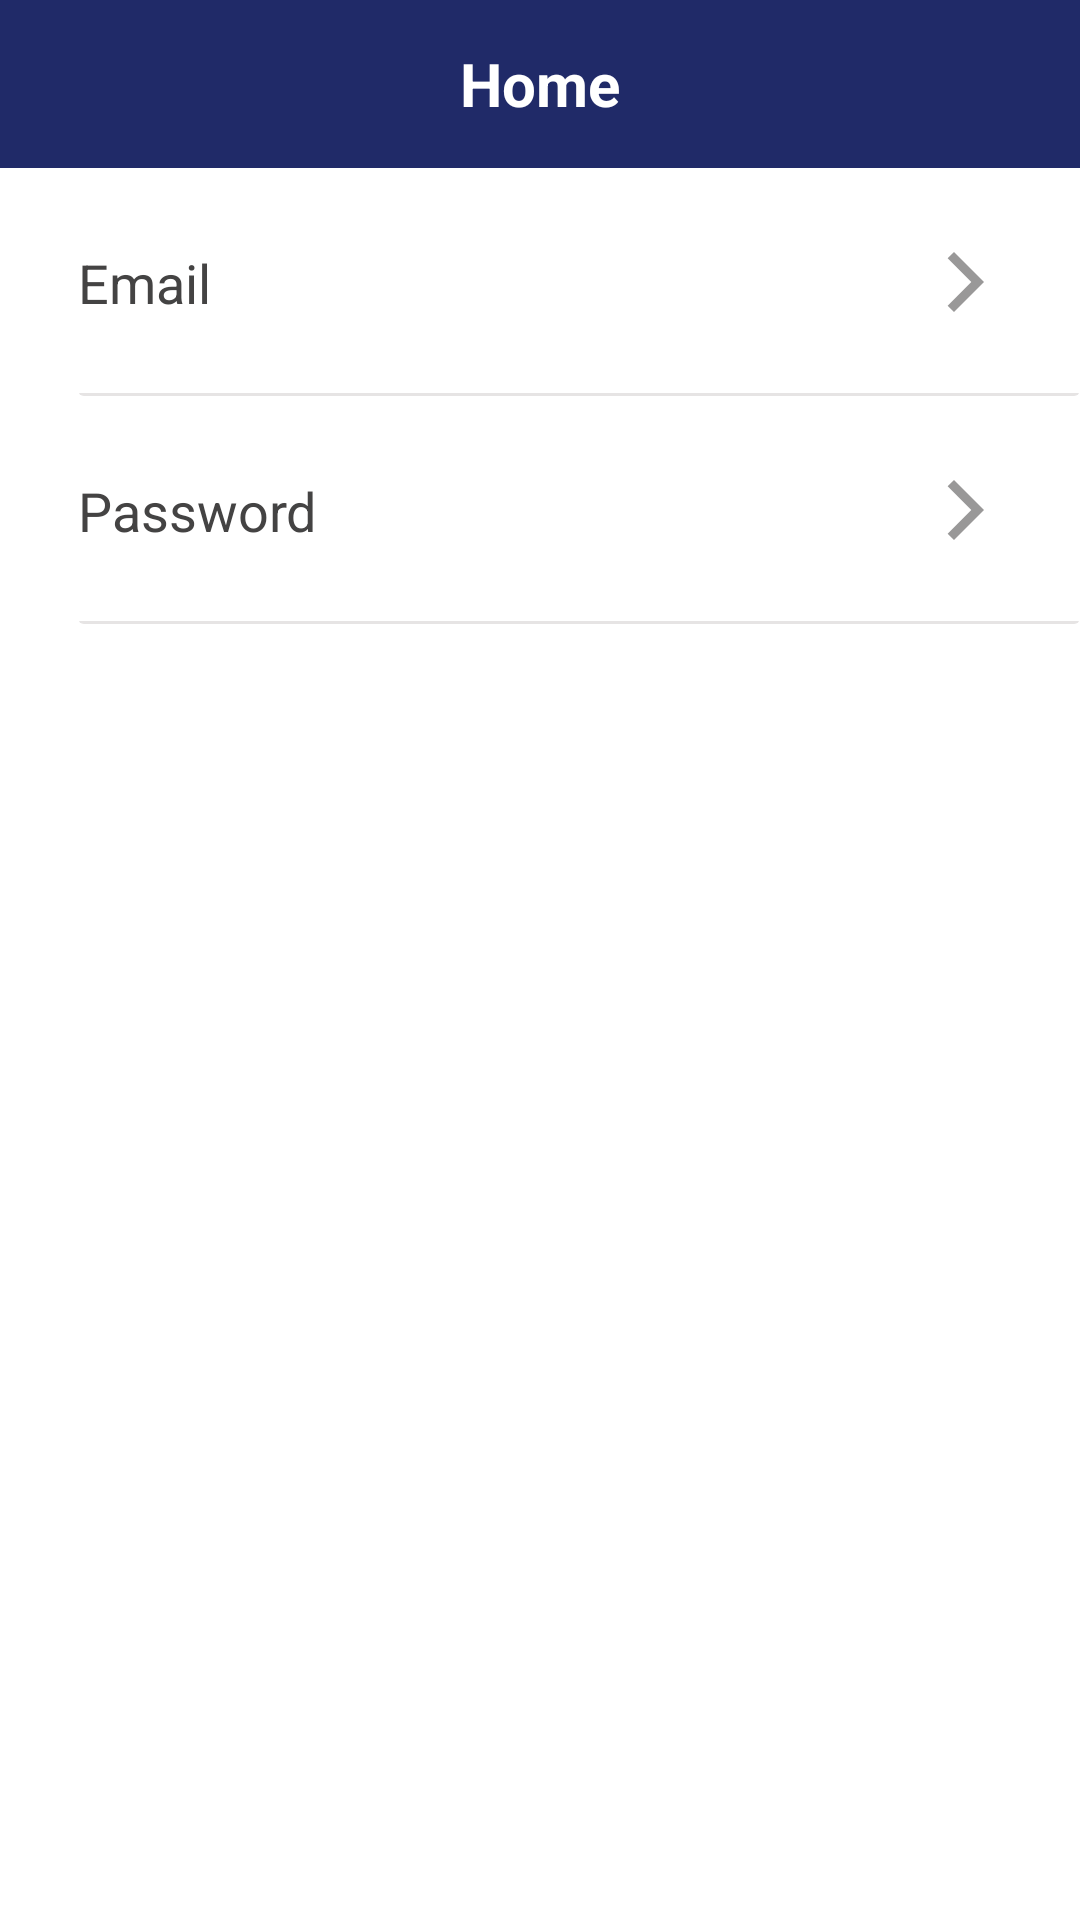

Locate icon controls on the screen. Image size 1080×1920, boxes as (x1, y1, x2, y2).
arrow forward: (948, 252, 984, 312), (948, 480, 984, 540)
